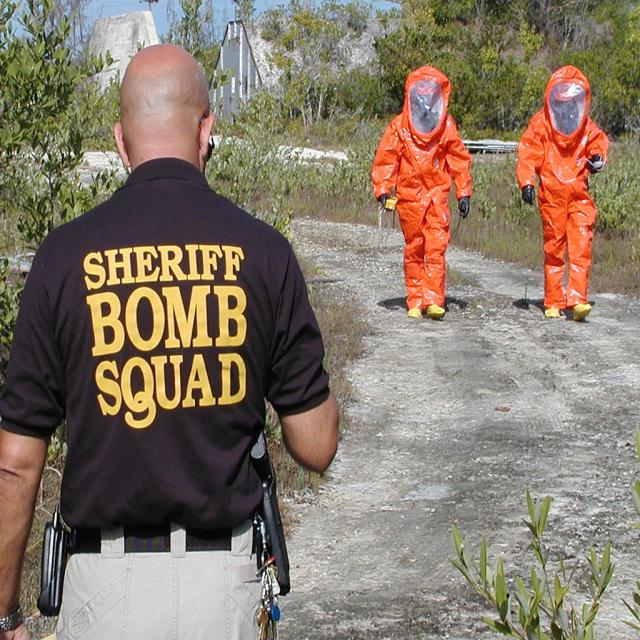no_fire: (30, 21, 611, 616)
